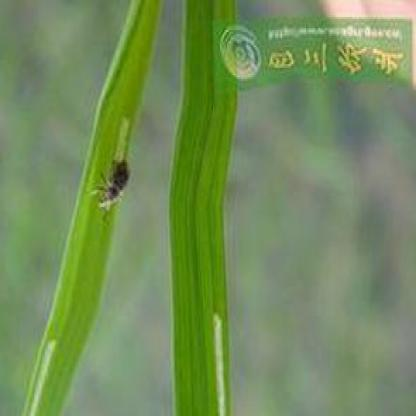rice-bug: (91, 156, 133, 214)
